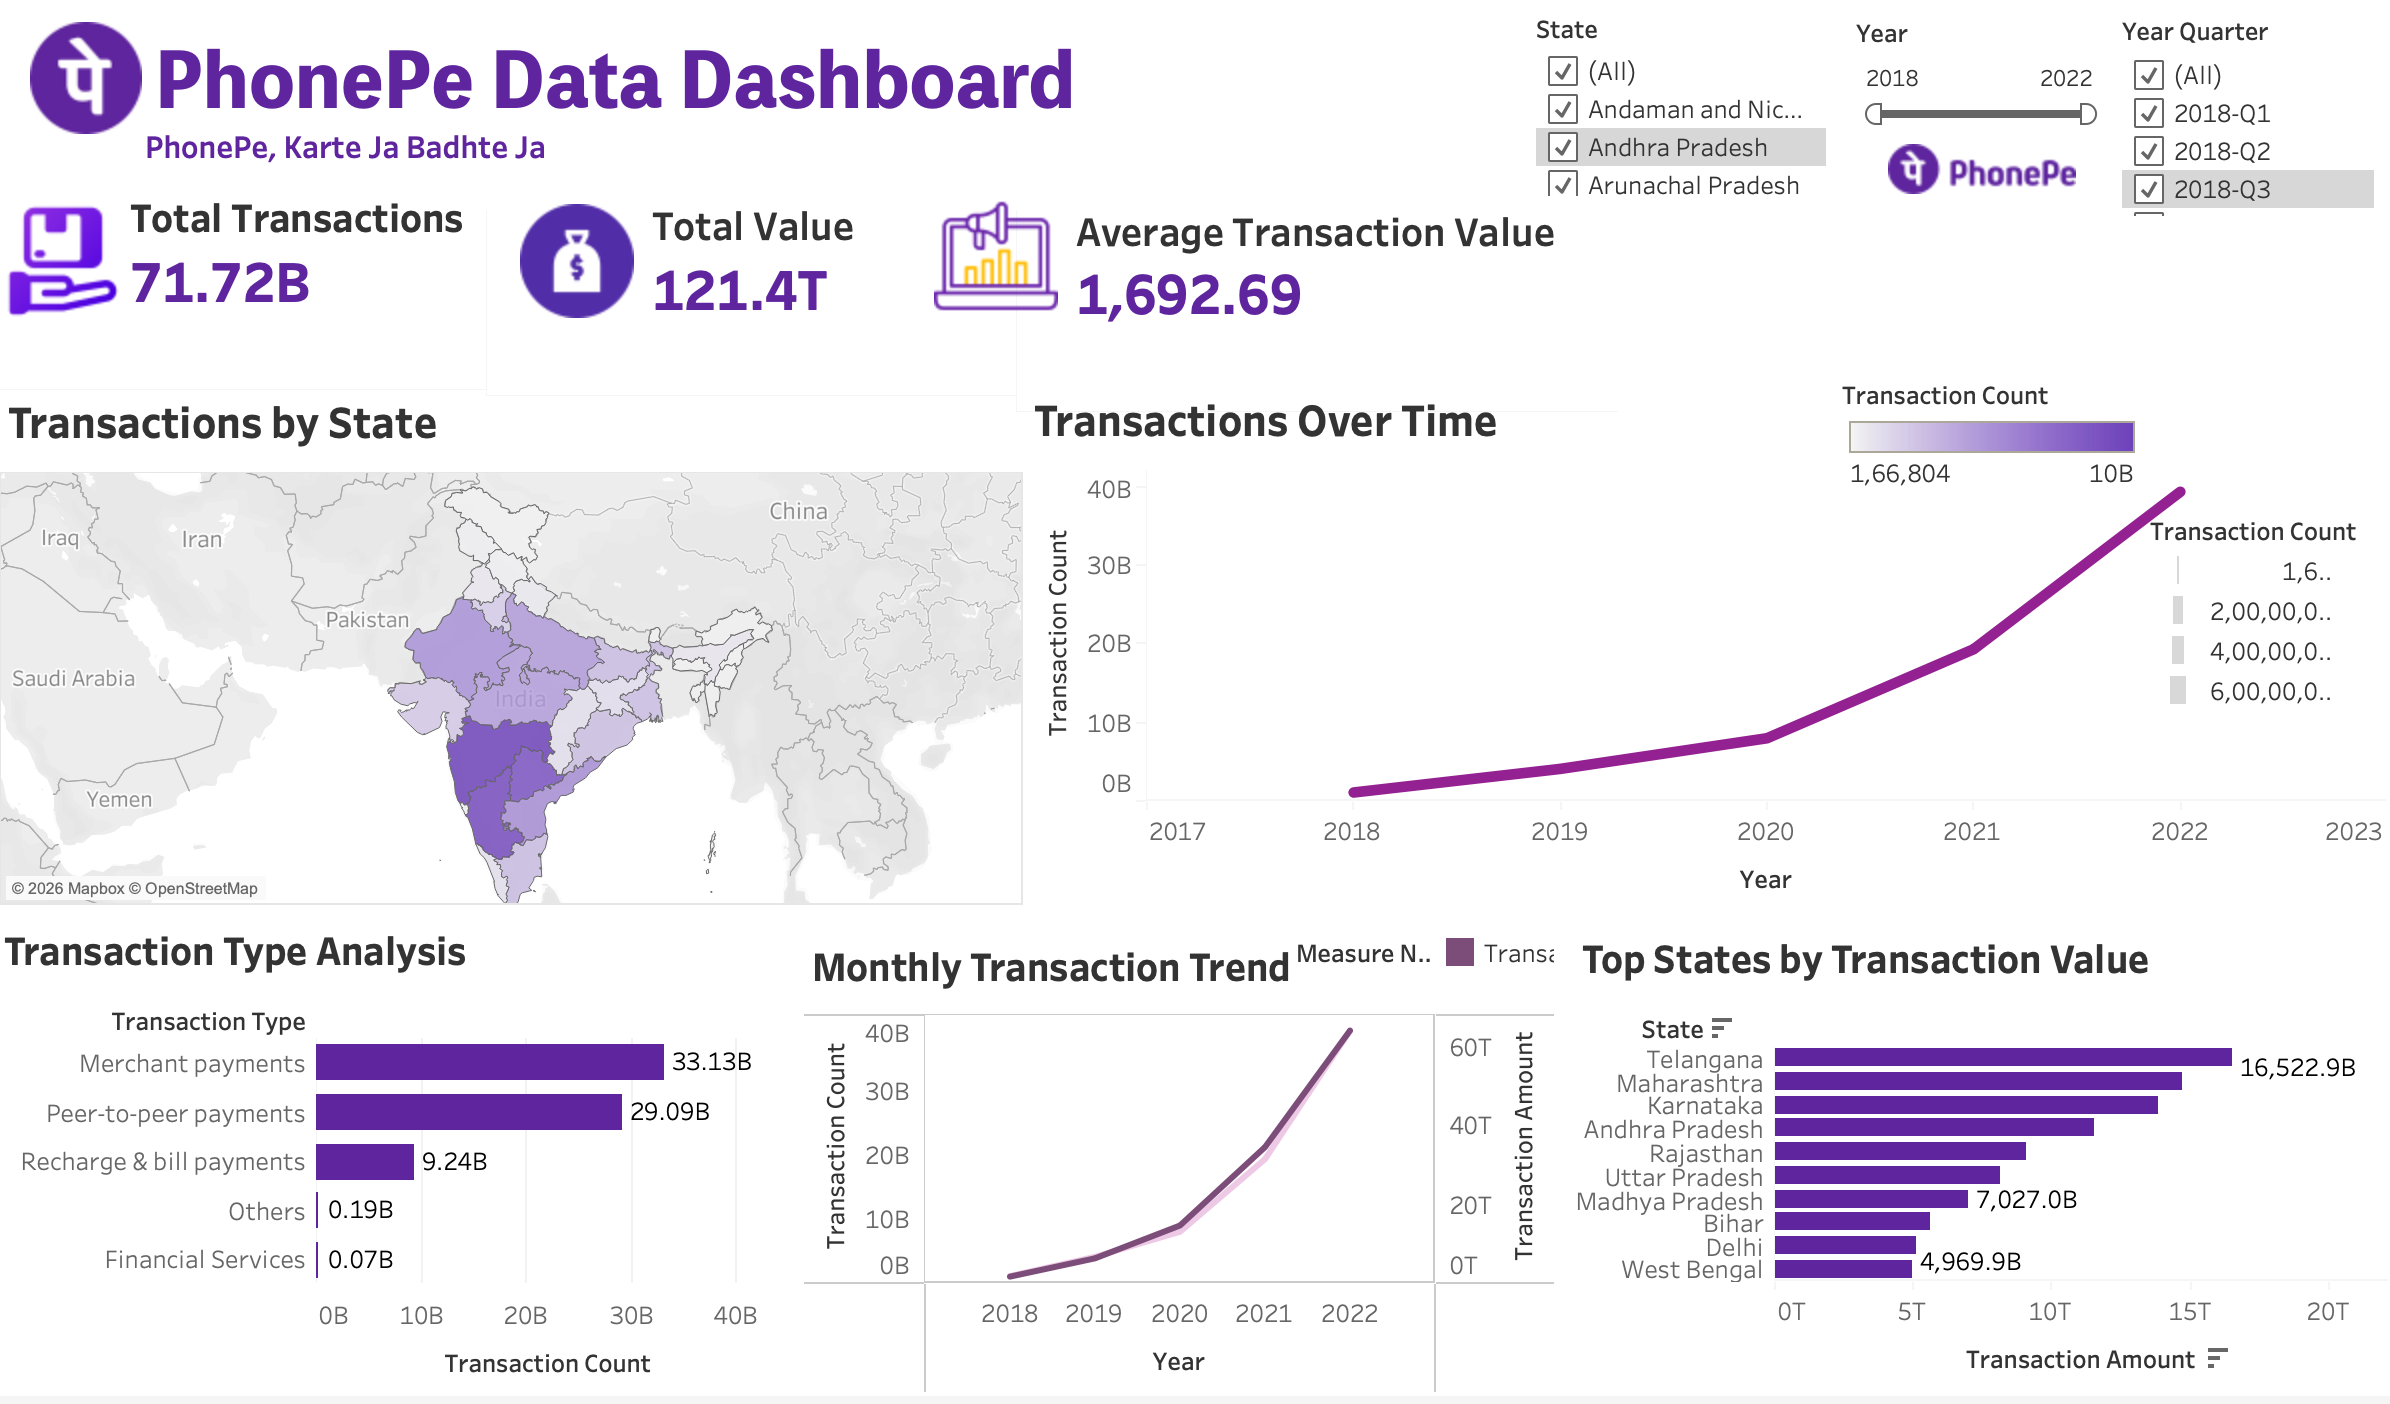

The page's visual inventory and layout, read from the dashboard file:
{"tool":"tableau","page":{"name":"Dashboard 1","canvas":[1200,700],"ordinal":0},"visuals":[{"type":"filter","title":"Transactions Over Time","param":"[federated.1d1aivt1h8tw0911vkzdf00cgveg].[none:state:nk]","box":[772,8,145,92]},{"type":"filter","title":"Transactions Over Time","param":"[federated.1d1aivt1h8tw0911vkzdf00cgveg].[none:year_quarter:nk]","box":[1065,9,126,101]},{"type":"filter","title":"Transactions Over Time","param":"[federated.1d1aivt1h8tw0911vkzdf00cgveg].[none:year:qk]","box":[932,10,125,61]},{"type":"image","param":"/Users/arpitakhanagwal/Downloads/download (1).png","box":[19,13,61,56]},{"type":"text","box":[74,60,206,30]},{"type":"image","param":"/Users/arpitakhanagwal/Downloads/phonepe-1.svg","box":[948,74,94,31]},{"type":"worksheet","title":"KPI - Total Transaction Value","mark":"Text","rows":["transaction_amount"],"box":[247,92,268,108]},{"type":"worksheet","title":"AVG TRANSACTION VALUE","mark":"Text","rows":["Calculation_1957678710108161"],"box":[512,92,301,116]},{"type":"image","param":"/Users/arpitakhanagwal/Downloads/average-position.png","box":[471,99,62,66]},{"type":"image","param":"/Users/arpitakhanagwal/Downloads/delivery.png","box":[7,104,57,60]},{"type":"image","param":"/Users/arpitakhanagwal/Downloads/bag.png","box":[264,104,57,68]},{"type":"legend","title":"Transactions by State","param":"[federated.1d1aivt1h8tw0911vkzdf00cgveg].[sum:transaction_count:qk]","box":[925,191,151,76]},{"type":"worksheet","title":"Transactions Over Time","mark":"Line","rows":["transaction_count"],"cols":["year"],"box":[517,193,680,264]},{"type":"worksheet","title":"Transactions by State","mark":"Multipolygon","box":[4,194,512,261]},{"type":"legend","title":"Transactions by State","param":"[federated.1d1aivt1h8tw0911vkzdf00cgveg].[sum:transaction_count:qk]","box":[1079,259,115,97]},{"type":"worksheet","title":"Transaction Type Analysis","mark":"Automatic","rows":["transaction_type"],"cols":["transaction_count"],"box":[2,460,392,239]},{"type":"worksheet","title":"Top States by Transaction Value","mark":"Bar","rows":["state"],"cols":["transaction_amount"],"box":[791,464,407,234]},{"type":"worksheet","title":"Monthly Transaction Trend","mark":"Line","rows":["transaction_count","transaction_amount"],"cols":["year"],"box":[406,468,376,231]},{"type":"legend","title":"Monthly Transaction Trend","param":"[federated.1d1aivt1h8tw0911vkzdf00cgveg].[:Measure Names]","box":[652,468,131,34]}]}

Visuals, with their boxes in screenshot pixels (x1, y1, x2, y2), scaled from the page's 1200x700 canvas onto the 2390x1404 screenshot:
"Transactions Over Time" filter: 1538,16,1826,201
"Transactions Over Time" filter: 2121,18,2372,221
"Transactions Over Time" filter: 1856,20,2105,142
image: 38,26,159,138
text: 147,120,558,181
image: 1888,148,2075,211
"KPI - Total Transaction Value" worksheet (Text marks): 492,185,1026,401
"AVG TRANSACTION VALUE" worksheet (Text marks): 1020,185,1619,417
image: 938,199,1062,331
image: 14,209,127,329
image: 526,209,639,345
"Transactions by State" legend: 1842,383,2143,536
"Transactions Over Time" worksheet (Line marks): 1030,387,2384,917
"Transactions by State" worksheet (Multipolygon marks): 8,389,1028,913
"Transactions by State" legend: 2149,519,2378,714
"Transaction Type Analysis" worksheet: 4,923,785,1402
"Top States by Transaction Value" worksheet (Bar marks): 1575,931,2386,1400
"Monthly Transaction Trend" worksheet (Line marks): 809,939,1557,1402
"Monthly Transaction Trend" legend: 1299,939,1559,1007
